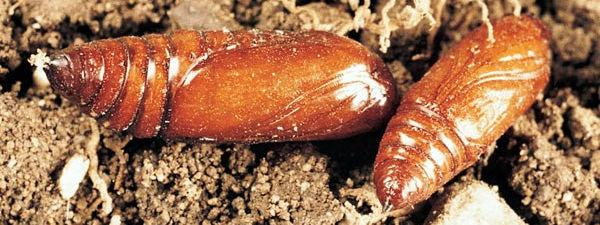caterpillars: (16, 0, 412, 180), (354, 0, 600, 225)
